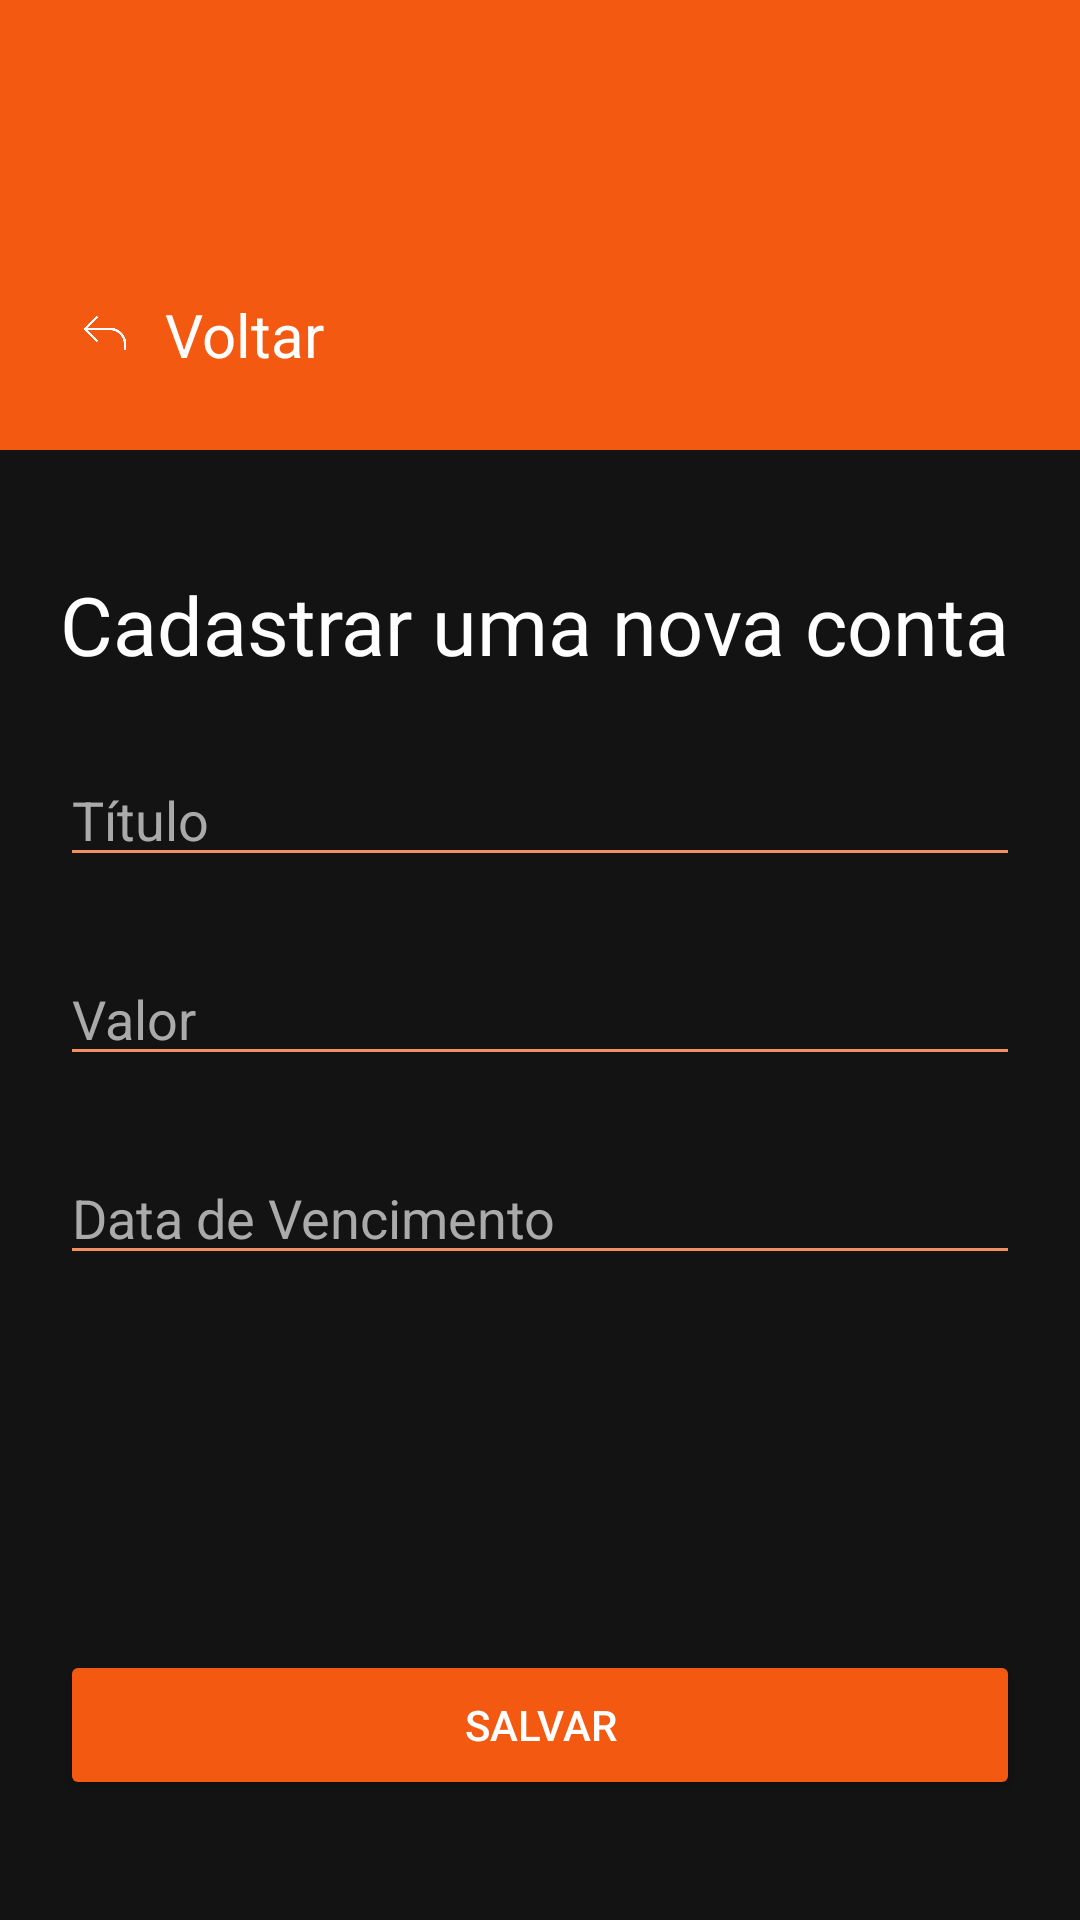

Screen size 1080 × 1920. Icon name, then its box in pixels as detection(x1, y1, x2, y2):
back: detection(84, 316, 126, 350)
